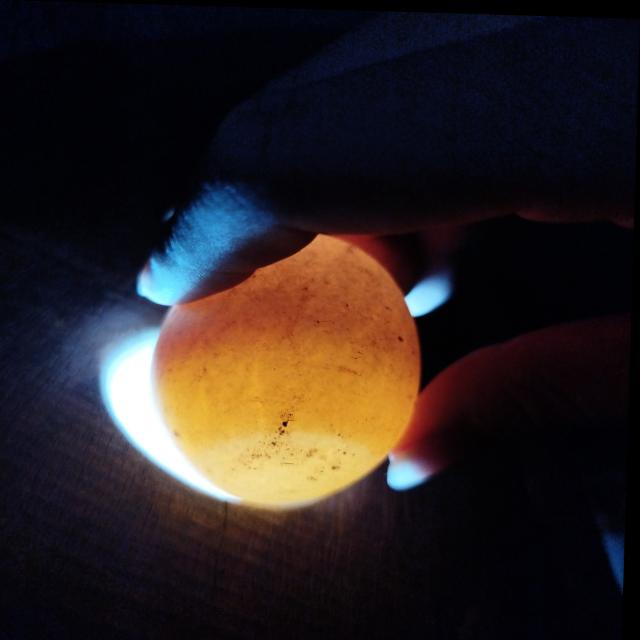Camara de Ar: (191, 431, 384, 501)
